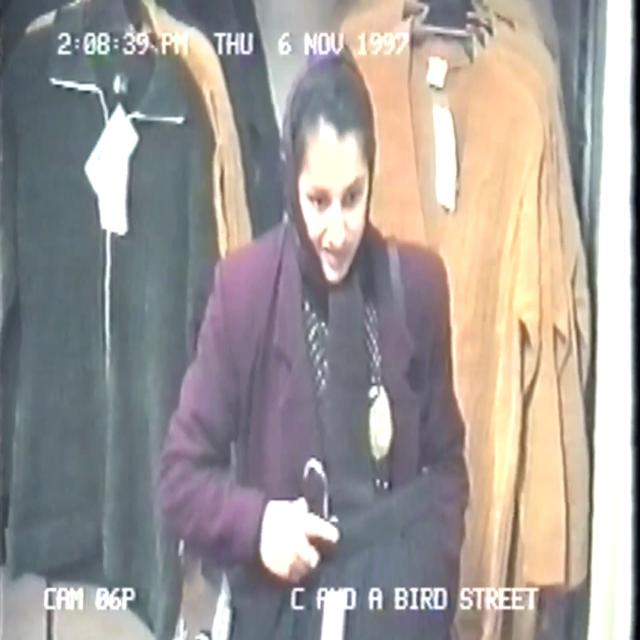Product: (216, 511, 423, 640)
shoplifting: (114, 3, 472, 640)
